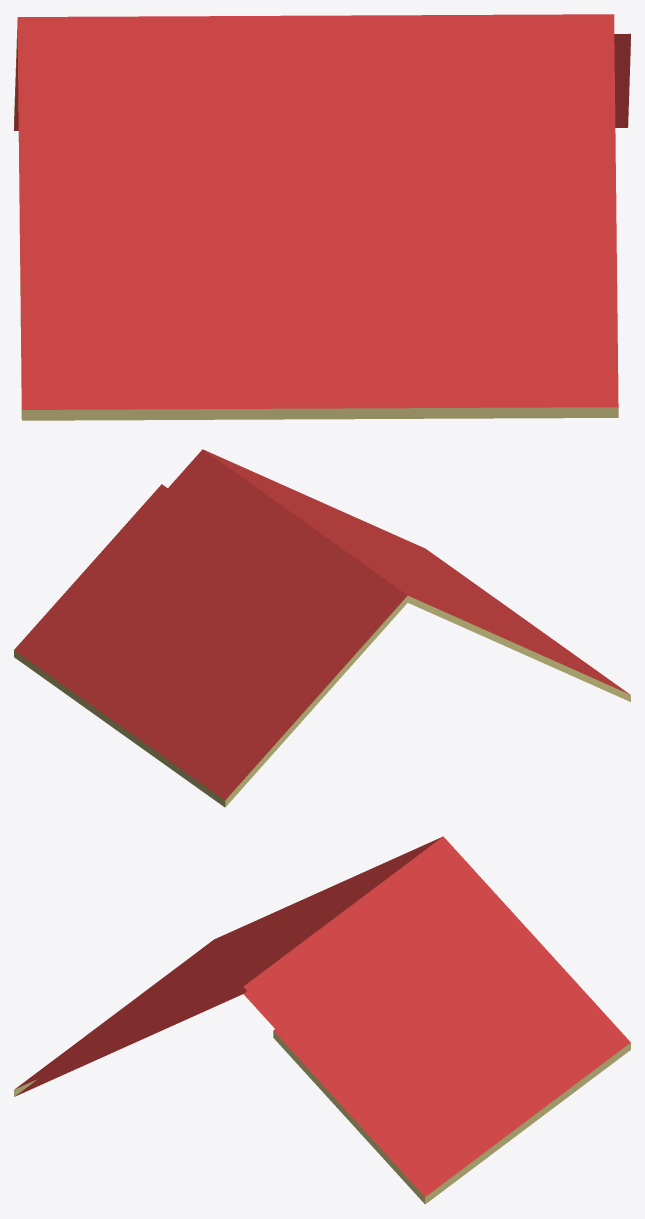
The picture shows the model from 3 angles, top to bottom: view 1: azimuth 30°, elevation 25°; view 2: azimuth 150°, elevation 25°; view 3: azimuth 270°, elevation 25°; orthographic projection. The views are drawn at different scales.
Bounding box in the file's own units: 7.42 × 7.62 × 2.3.
